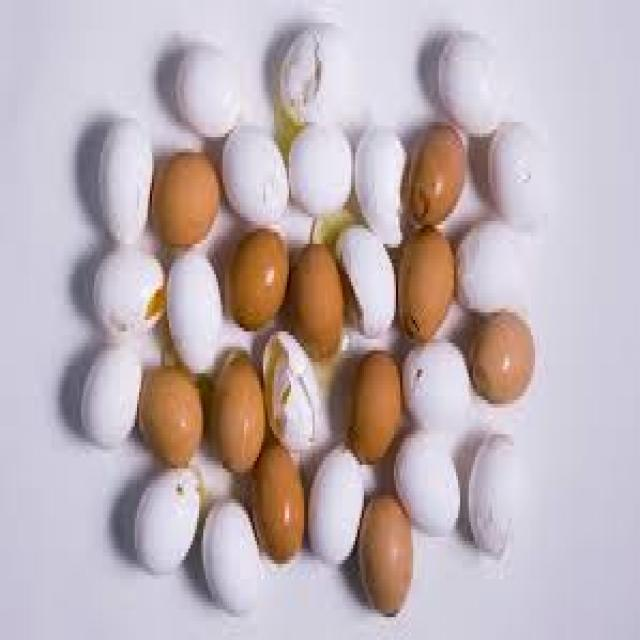biodegradable: (281, 26, 376, 139), (264, 328, 333, 464), (124, 461, 206, 575), (435, 30, 510, 142), (394, 221, 458, 348), (469, 419, 524, 561), (94, 115, 153, 244), (91, 245, 169, 342), (333, 223, 398, 339), (309, 445, 366, 577), (465, 309, 538, 410), (167, 251, 225, 377), (455, 219, 532, 310), (138, 363, 206, 466), (224, 125, 292, 228), (488, 125, 553, 232), (401, 338, 473, 434), (172, 44, 243, 139), (397, 432, 463, 534), (152, 152, 219, 252), (80, 343, 143, 449), (203, 498, 259, 616), (404, 120, 466, 226), (283, 117, 352, 212), (359, 496, 413, 615), (356, 130, 411, 246), (231, 228, 290, 332), (255, 446, 304, 570), (293, 243, 345, 359), (355, 350, 399, 463)
